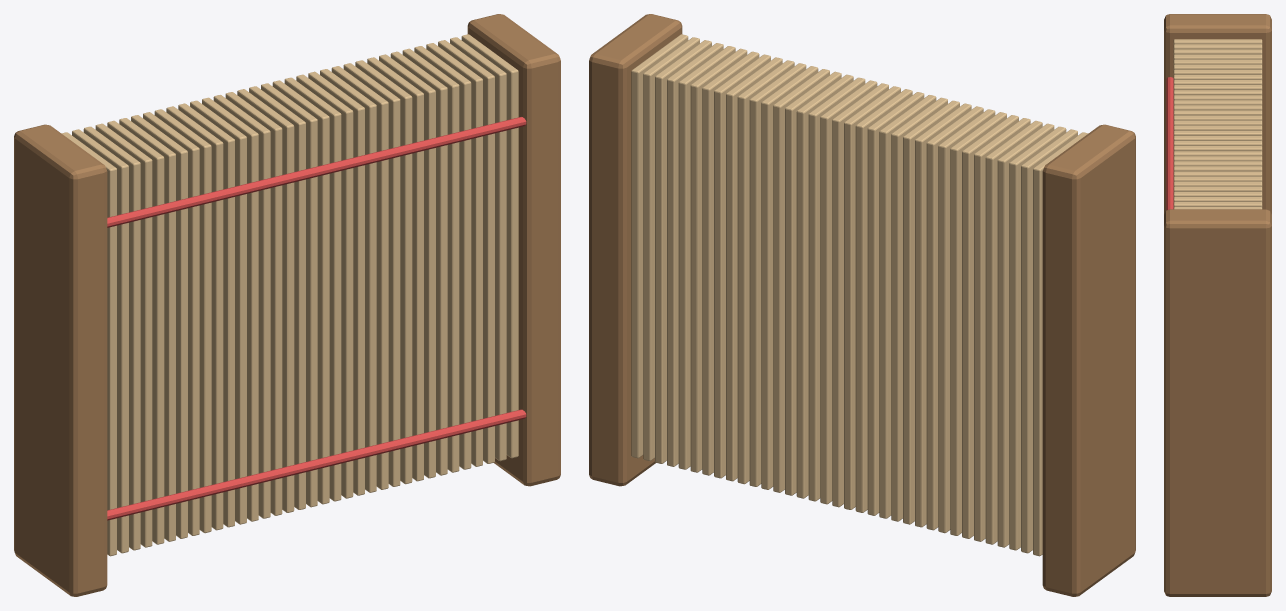
Rendered from gakki_sasara.glb.
3 views of the same model, side by side, from view 1: azimuth 30°, elevation 25°; view 2: azimuth 150°, elevation 25°; view 3: azimuth 270°, elevation 25° (orthographic). The views are drawn at different scales.
Parts seen in each view (by area): view 1: Sasara terminating paddle, Sasara terminating paddle.001, Sliding fine wood sasara slat.008, Sliding fine wood sasara slat.004, Sliding fine wood sasara slat.029, Sliding fine wood sasara slat.015, Sliding fine wood sasara slat.018, Sliding fine wood sasara slat.025, Sliding fine wood sasara slat.014, Sliding fine wood sasara slat.019, Sliding fine wood sasara slat.023, Sliding fine wood sasara slat.030 (+27 smaller); view 2: Sasara terminating paddle, Sasara terminating paddle.001, Sliding fine wood sasara slat.008, Sliding fine wood sasara slat.029, Sliding fine wood sasara slat.003, Sliding fine wood sasara slat.004, Sliding fine wood sasara slat.019, Sliding fine wood sasara slat.034, Sliding fine wood sasara slat.009, Sliding fine wood sasara slat.018, Sliding fine wood sasara slat.025, Sliding fine wood sasara slat.014 (+25 smaller); view 3: Sasara terminating paddle.001, Sasara terminating paddle, Sasara binding silk rope.001, Sliding fine wood sasara slat.004, Sliding fine wood sasara slat.016, Sliding fine wood sasara slat.027, Sliding fine wood sasara slat, Sliding fine wood sasara slat.001, Sliding fine wood sasara slat.002, Sliding fine wood sasara slat.003, Sliding fine wood sasara slat.010, Sliding fine wood sasara slat.011 (+25 smaller).
Part boxes in pixels (x1,y1,x2,y2): Sasara terminating paddle: (14,124,107,596); Sasara terminating paddle.001: (467,14,560,486); Sliding fine wood sasara slat.008: (154,109,211,533); Sliding fine wood sasara slat.004: (107,120,164,544); Sliding fine wood sasara slat.029: (402,48,459,472); Sliding fine wood sasara slat.015: (237,89,294,512); Sliding fine wood sasara slat.018: (272,80,329,504); Sliding fine wood sasara slat.025: (355,60,412,484); Sliding fine wood sasara slat.014: (225,92,282,515); Sliding fine wood sasara slat.019: (284,77,341,501); Sliding fine wood sasara slat.023: (331,66,388,489); Sliding fine wood sasara slat.030: (414,46,471,469); Sasara terminating paddle: (1042,124,1135,596); Sasara terminating paddle.001: (589,14,682,486); Sliding fine wood sasara slat.008: (938,109,995,533); Sliding fine wood sasara slat.029: (690,48,747,472); Sliding fine wood sasara slat.003: (997,123,1054,547); Sliding fine wood sasara slat.004: (985,120,1042,544); Sliding fine wood sasara slat.019: (808,77,865,501); Sliding fine wood sasara slat.034: (631,34,688,458); Sliding fine wood sasara slat.009: (926,106,983,530); Sliding fine wood sasara slat.018: (820,80,877,504); Sliding fine wood sasara slat.025: (737,60,794,484); Sliding fine wood sasara slat.014: (867,92,924,515); Sasara terminating paddle.001: (1164,209,1271,596); Sasara terminating paddle: (1164,14,1271,214); Sasara binding silk rope.001: (1166,77,1173,210); Sliding fine wood sasara slat.004: (1173,59,1262,65); Sliding fine wood sasara slat.016: (1173,120,1262,126); Sliding fine wood sasara slat.027: (1173,176,1262,182); Sliding fine wood sasara slat: (1173,39,1262,44); Sliding fine wood sasara slat.001: (1173,44,1262,49); Sliding fine wood sasara slat.002: (1173,49,1262,54); Sliding fine wood sasara slat.003: (1173,54,1262,59); Sliding fine wood sasara slat.010: (1173,90,1262,95); Sliding fine wood sasara slat.011: (1173,95,1262,100).
Size of the model in its own units: 1.95 by 1.62 by 0.4196.
